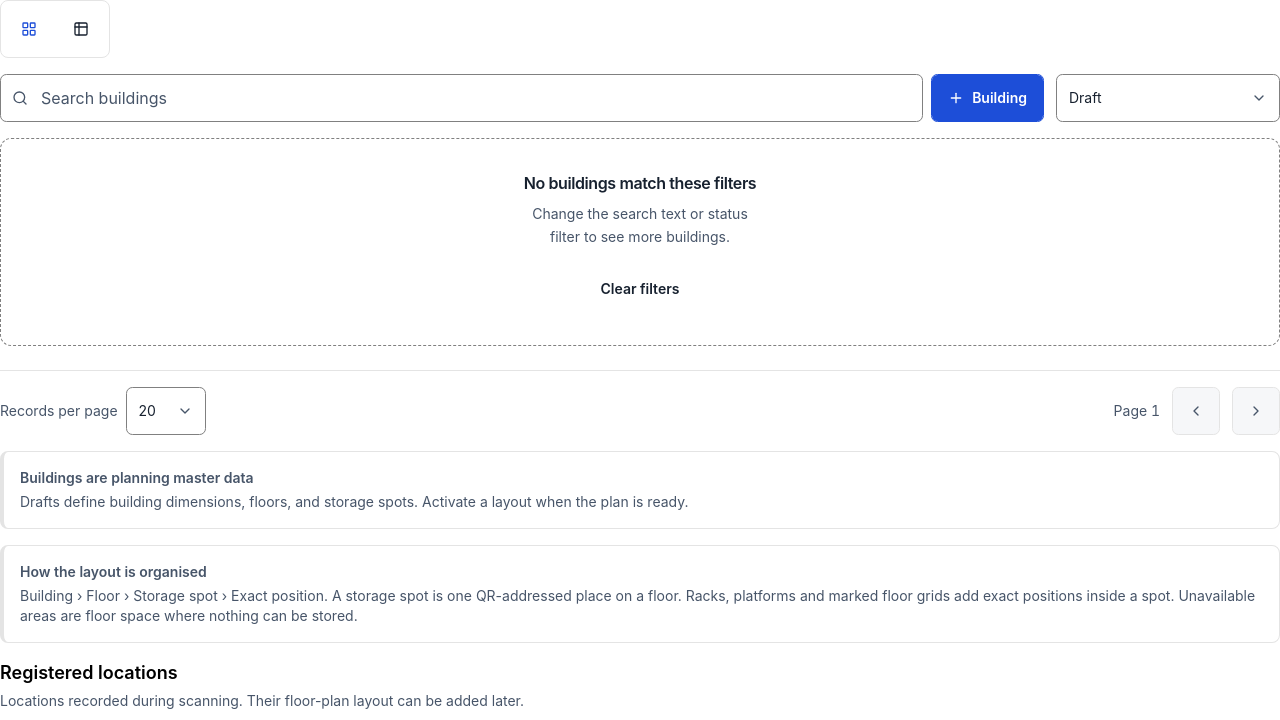
StorageBuildingCatalogue empty states › keeps the mismatch copy for an applied filter and clears it in one history step
Expected: the text "No buildings match these filters" is shown, left=524, top=171, right=756, bottom=195
Expected: the text "No storage buildings yet" is not shown
Click the button "Clear filters".
click(640, 288)  # box left=584, top=264, right=696, bottom=312
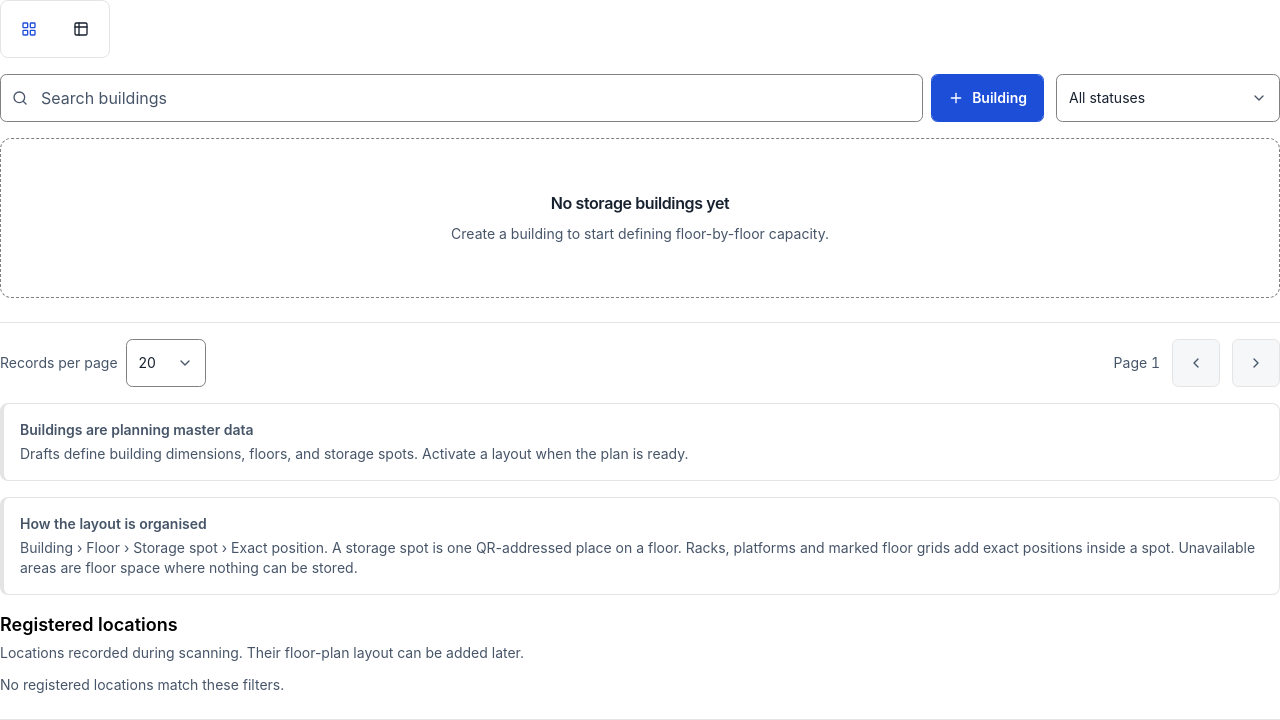
Result: the text "No storage buildings yet" is shown at left=551, top=191, right=729, bottom=215
Result: the dropdown named "Filter by status" reads "All statuses" at left=1056, top=74, right=1279, bottom=122
